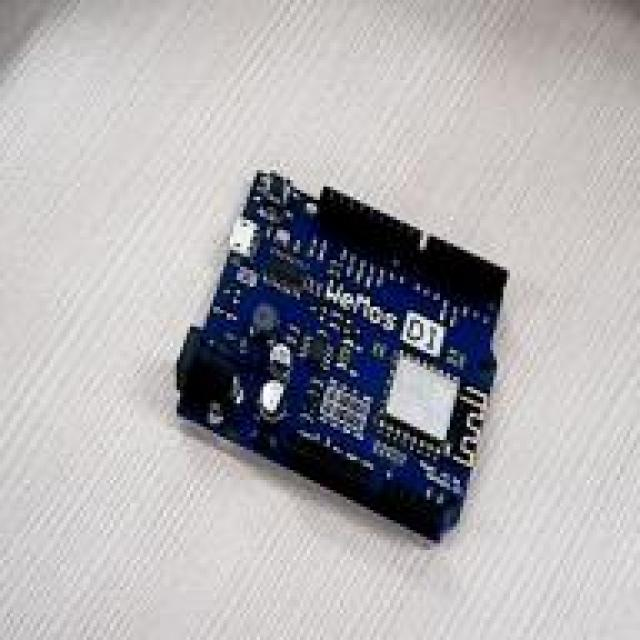Wemos: (178, 171, 504, 538)
